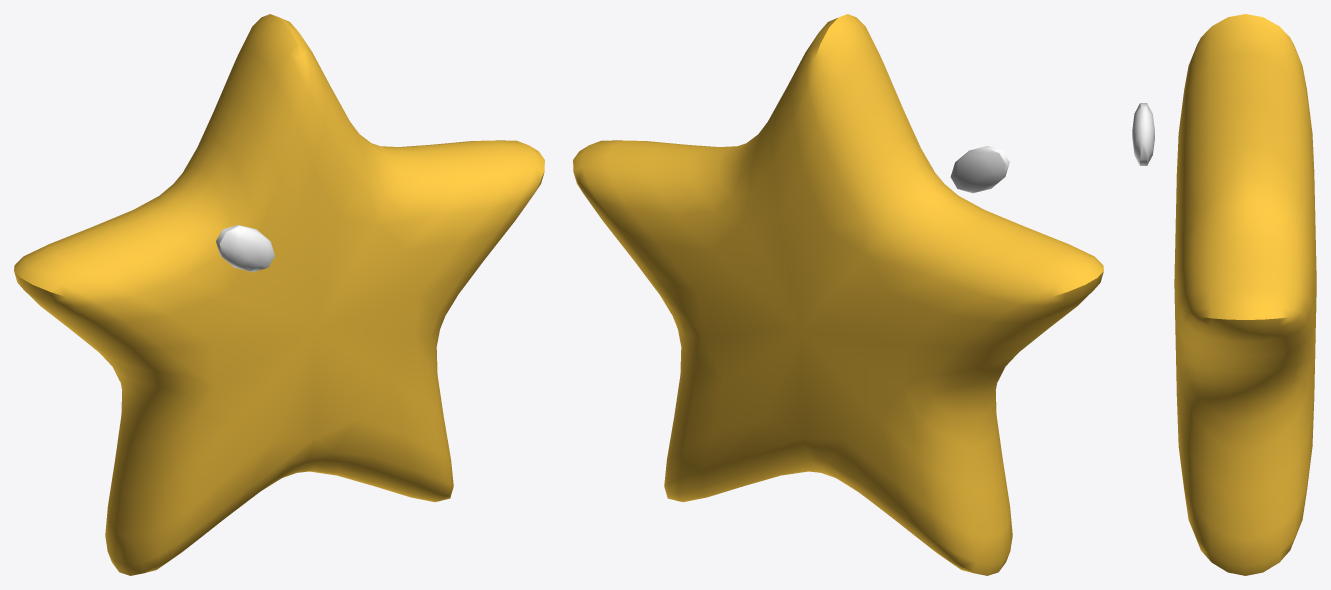
The model's file is icon_star.glb.
3 views of the same model, side by side, from view 1: azimuth 30°, elevation 25°; view 2: azimuth 150°, elevation 25°; view 3: azimuth 270°, elevation 25° (orthographic). The views are drawn at different scales.
Parts seen in each view (by area): view 1: Star; view 2: Star; view 3: Star.
Boxes of the visible parts, <box> form: Star: <box>14,14,544,575</box>; Star: <box>573,14,1103,575</box>; Star: <box>1132,14,1316,575</box>.
Size of the model in its own units: 0.9439 by 0.8991 by 0.3077.
1 material, 1 textured.
